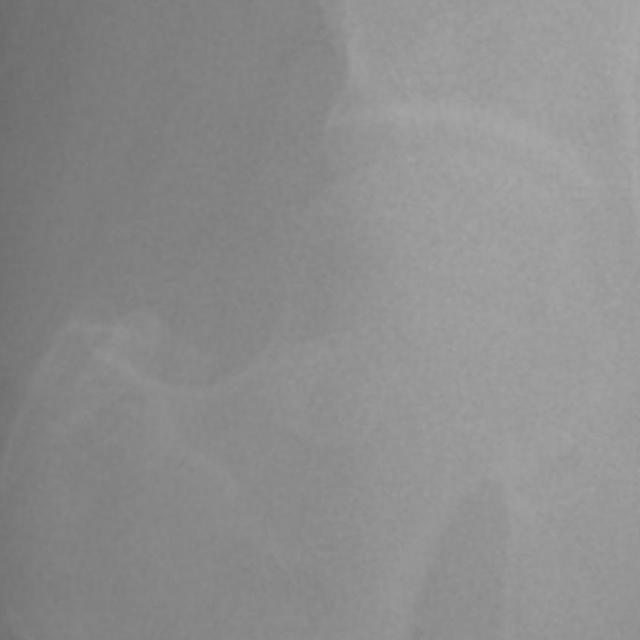Fitted_femural_head: (352, 147, 432, 352)
